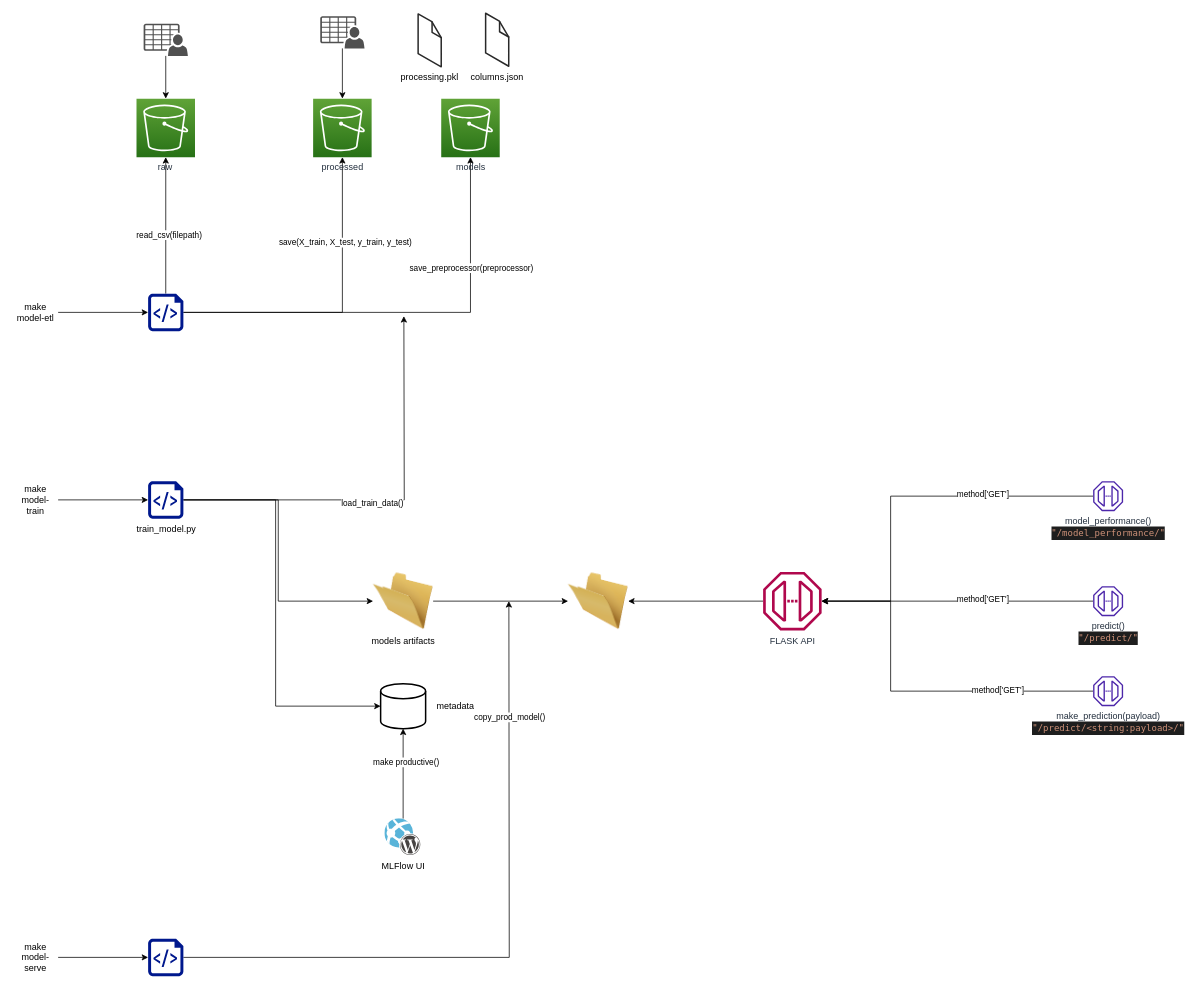
Image size: 1196x1005. Some labels were removed from this diagram. The shapes that lost their labels are listed below. From the top down, each one's centre as x and y in pixels, then its label:
At point 165,39: "challenge_houses-prices.csv".
At point 342,32: "train.parquet test.parquet".
At point 165,312: "ETL.py".
At point 598,601: "model".
At point 403,705: "DB".
At point 165,957: "model_serve.py".
